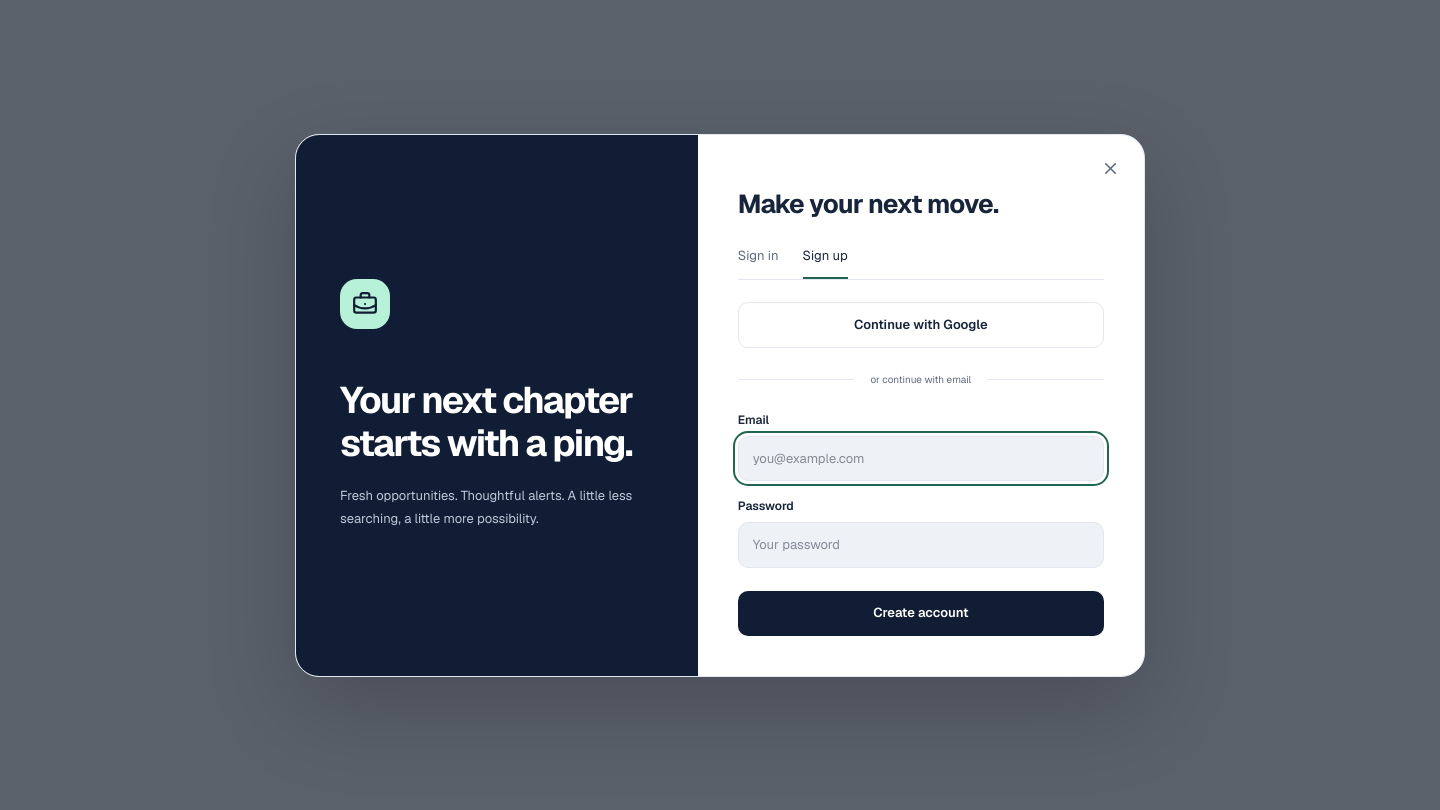
Test: Authentication dialog › does not hand off after a failed Google popup
What coordinates should you click on to do the following:
click the button "Continue with Google"
I would click on:
 (921, 325)
Its box is left=738, top=302, right=1104, bottom=348.
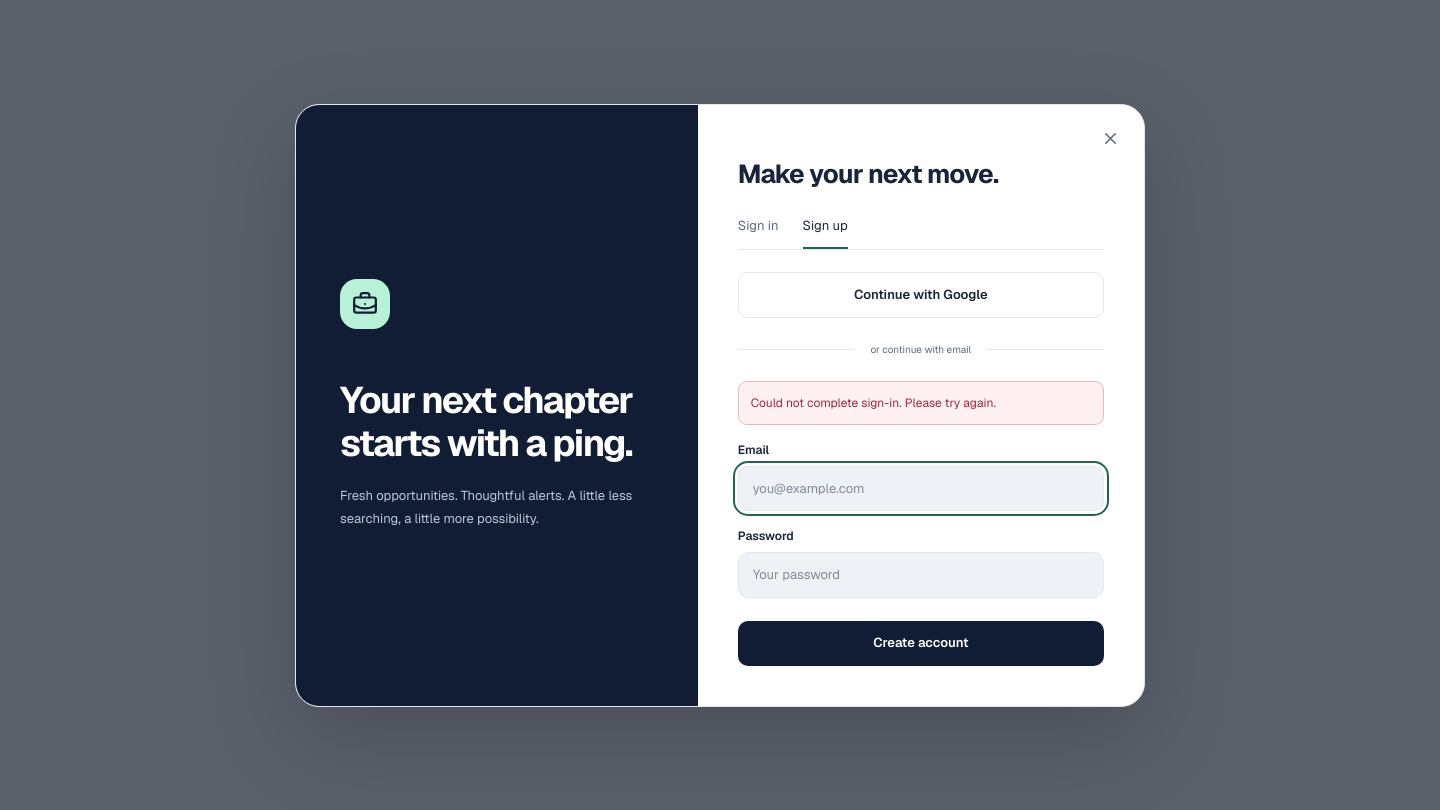
expect the message shows "Could not complete sign-in": met, box left=751, top=394, right=996, bottom=410
